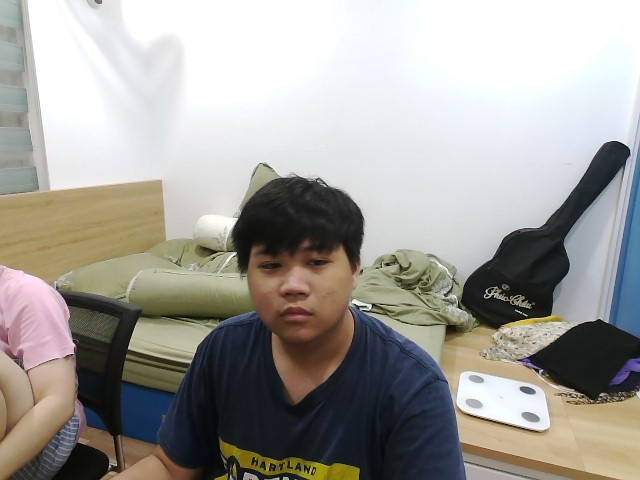face: (230, 176, 364, 344)
